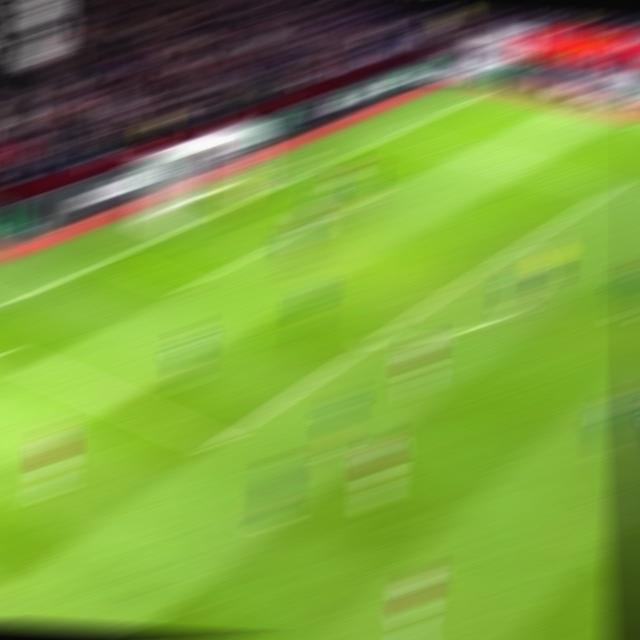bigarea_bottom_inner: (199, 431, 236, 457)
bigarea_top_inner: (595, 180, 627, 198)
bigarea_top_outter: (380, 128, 410, 139)
bottom_arc_area_intersection: (362, 329, 395, 346)
corner: (475, 87, 509, 96)
smallarea_bottom_inner: (169, 274, 205, 296)
smallarea_bottom_outter: (97, 251, 129, 265)
smallarea_top_inner: (358, 187, 388, 200)
smallarea_top_outter: (291, 165, 323, 179)
top_arc_area_intersection: (503, 240, 533, 254)
